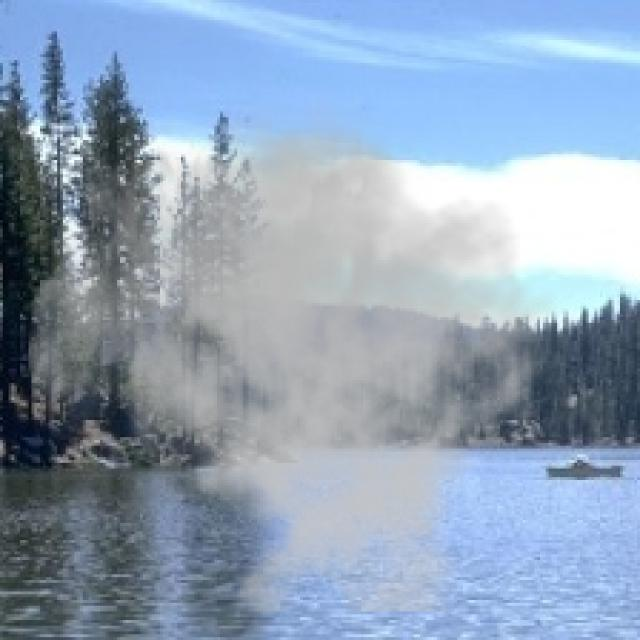smoke: (26, 77, 560, 612)
